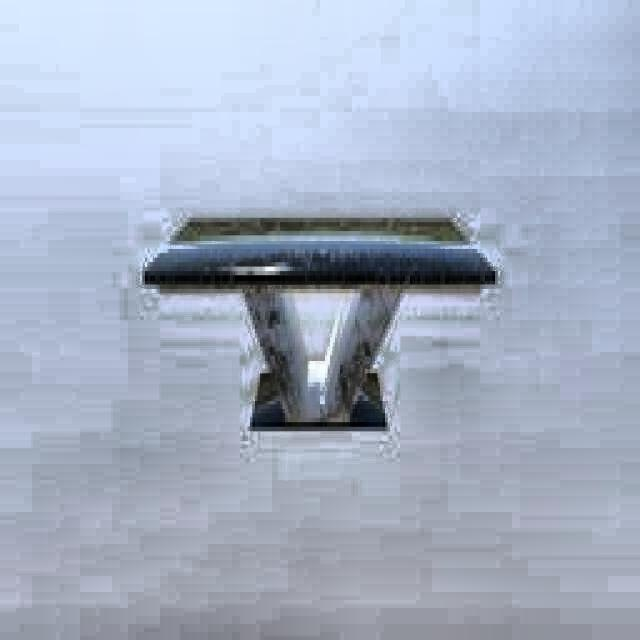mesa: (142, 212, 499, 434)
